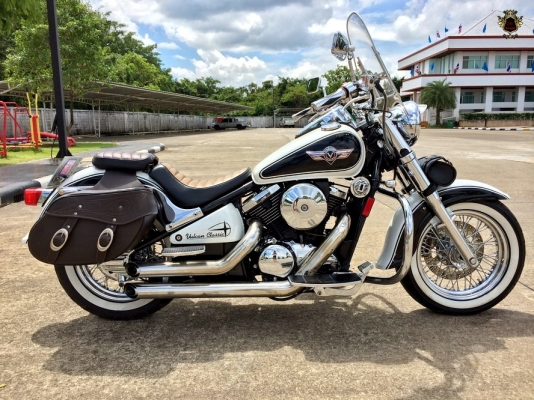motorcycle: (42, 80, 526, 319)
